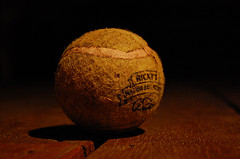tennis ball: (51, 26, 165, 132)
